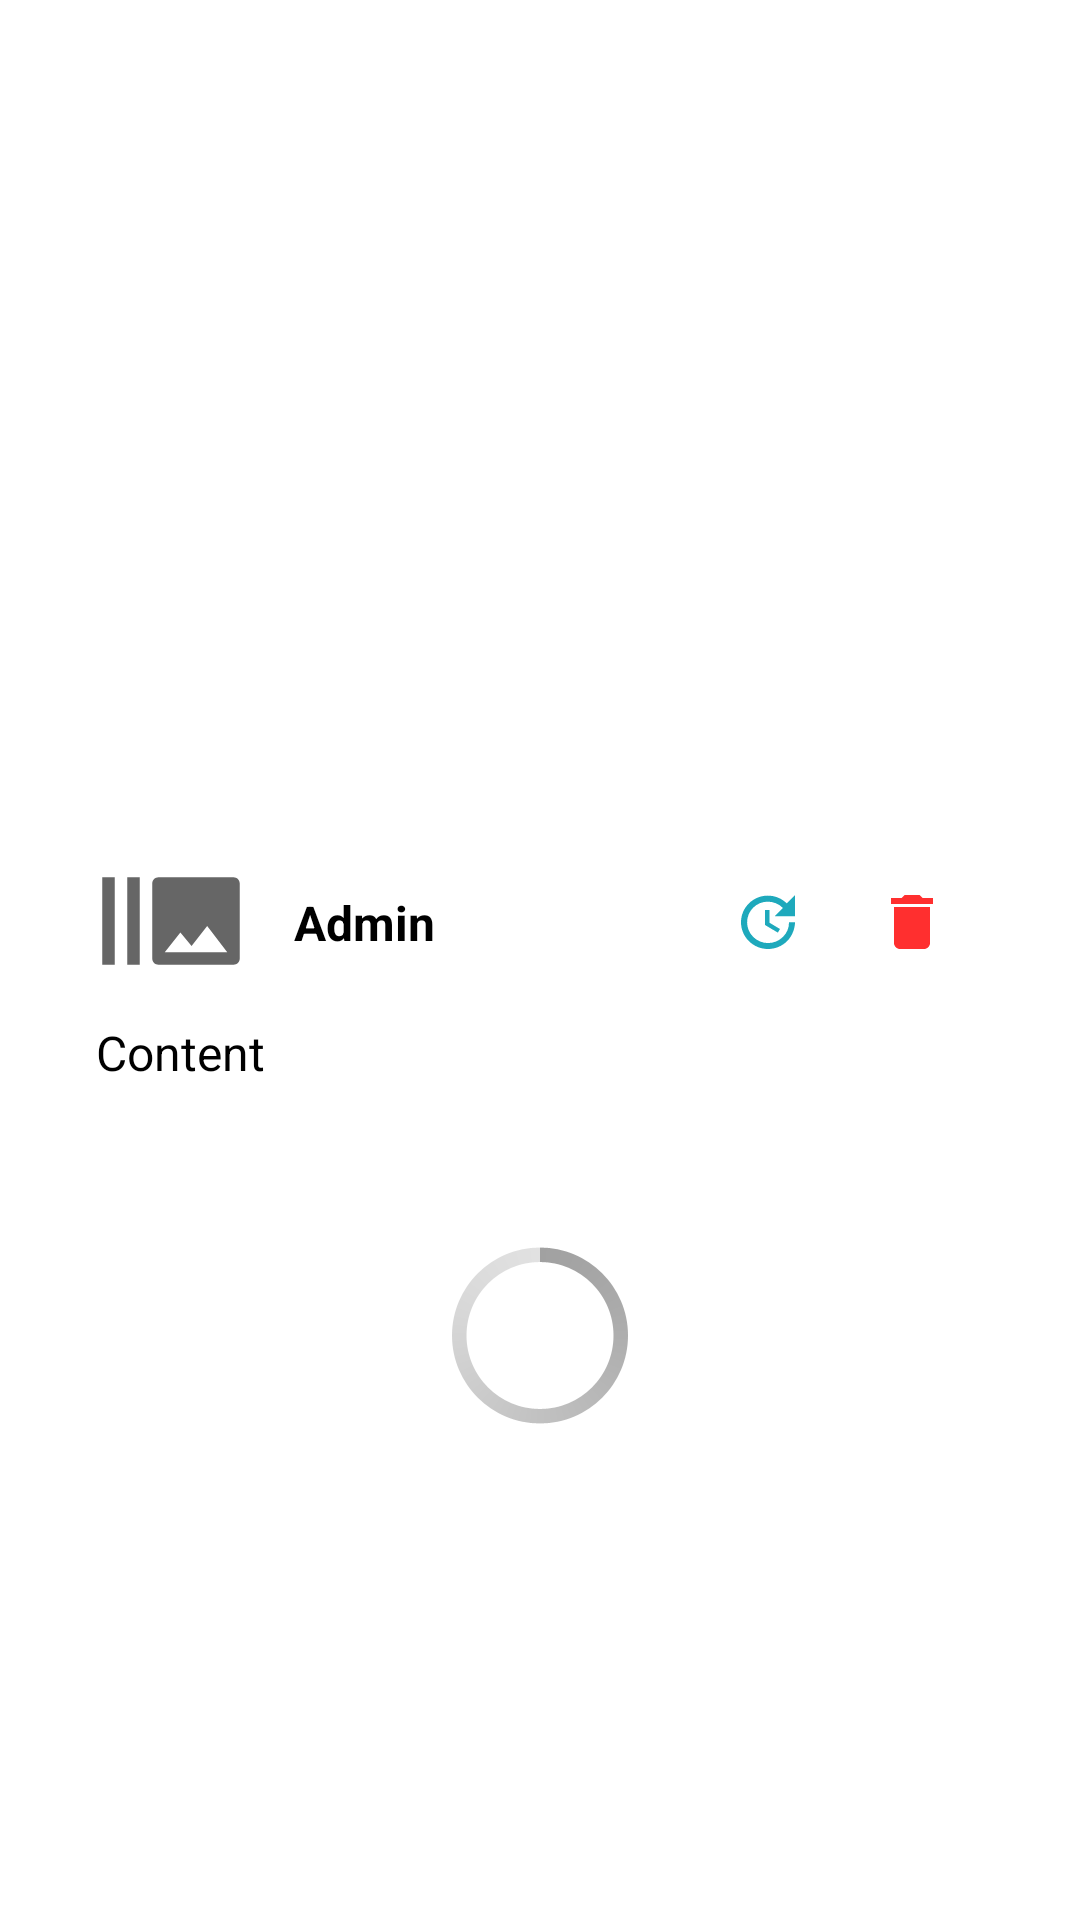

Icons on this 1080x1920 Android screen, each with the point to tap as (x,y):
burst mode: (171,921)
Delete: (912,922)
Update: (768,922)
